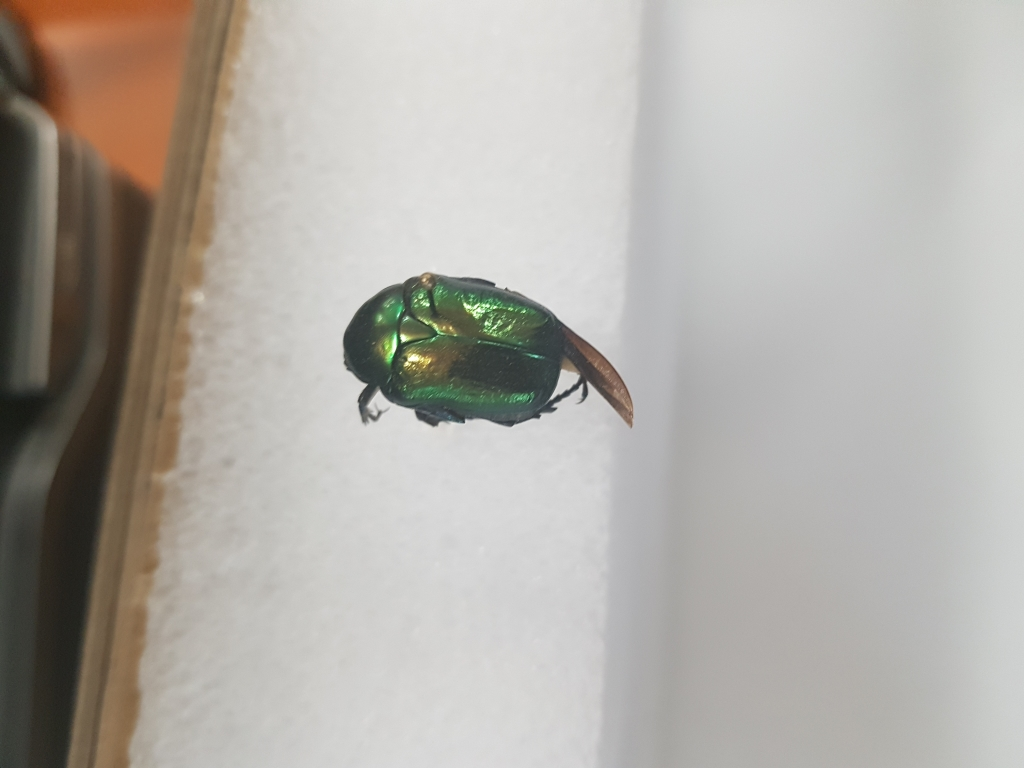Protaetia_angustata_angustata: (333, 255, 640, 460)
